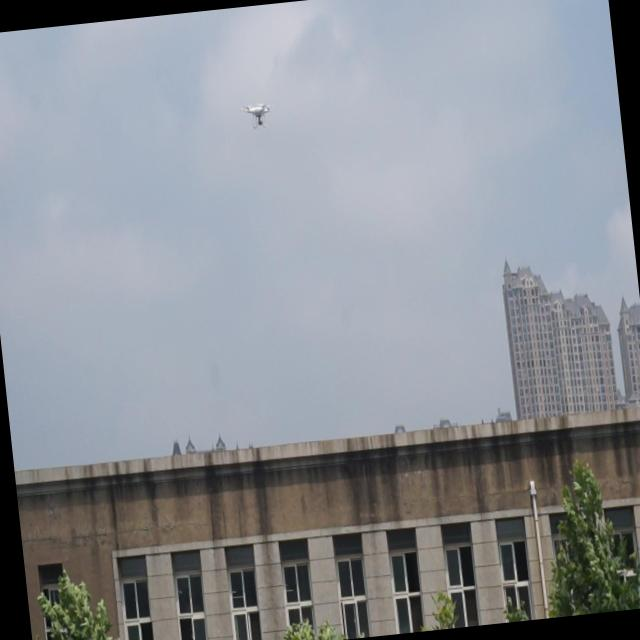drone: (241, 100, 275, 134)
